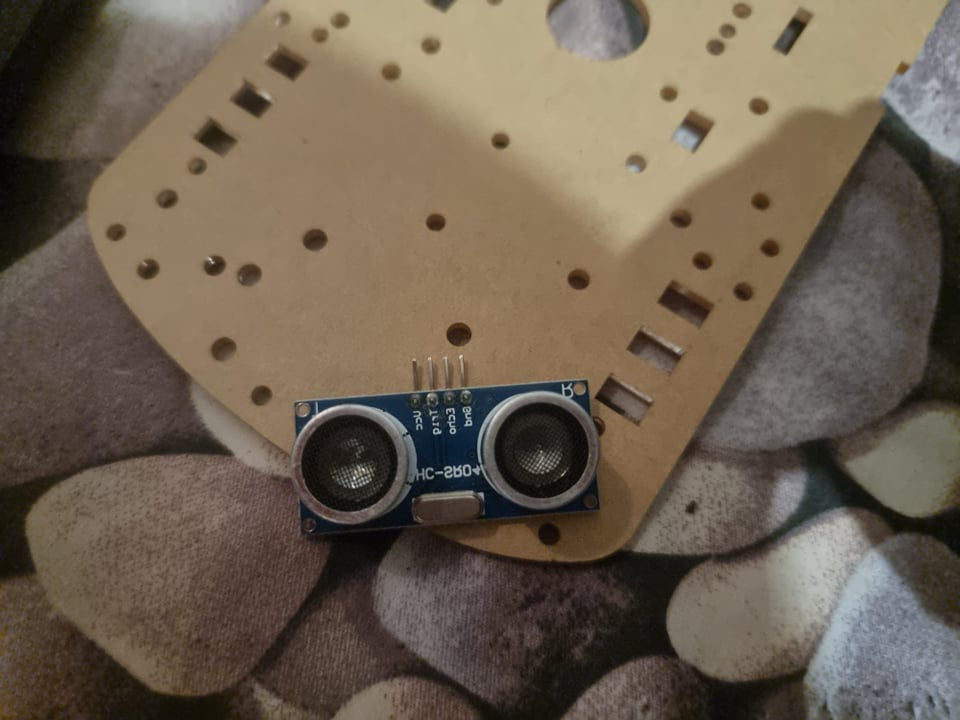SENSOR: (293, 379, 601, 538)
